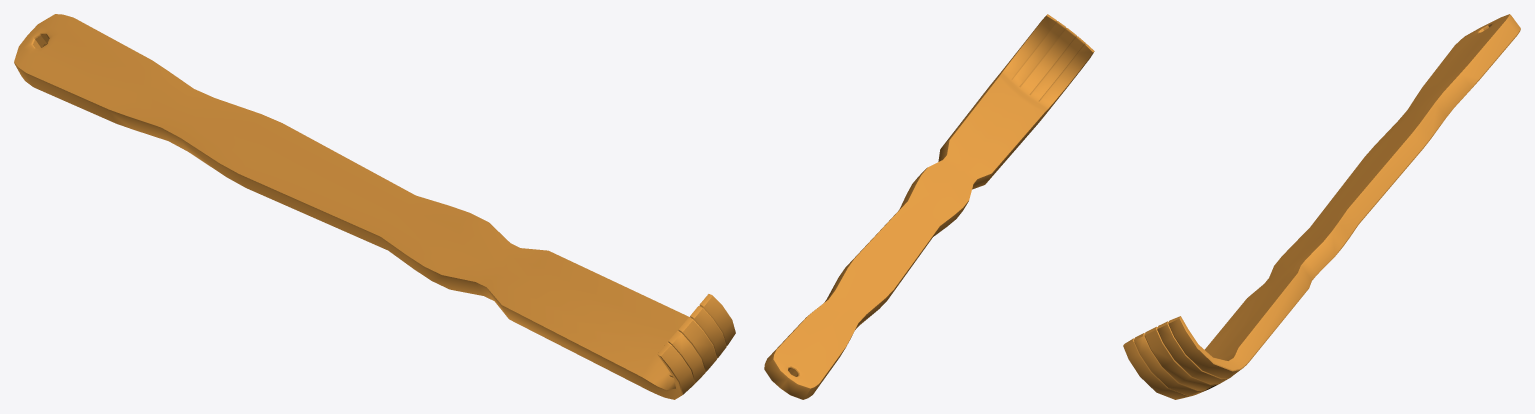
Rendered from ref_woodhand.glb.
The picture shows the model from 3 angles, left to right: view 1: azimuth 30°, elevation 25°; view 2: azimuth 150°, elevation 25°; view 3: azimuth 330°, elevation 25°; orthographic projection. The views are drawn at different scales.
Visible parts, largest first — view 1: ref_woodhand; view 2: ref_woodhand; view 3: ref_woodhand.
Part boxes in pixels (x1,y1,x2,y2): ref_woodhand: (14, 14, 735, 399); ref_woodhand: (764, 14, 1094, 399); ref_woodhand: (1123, 14, 1520, 399).
Size of the model in its own units: 0.2435 by 0.1224 by 1.
1 material, 1 textured.
